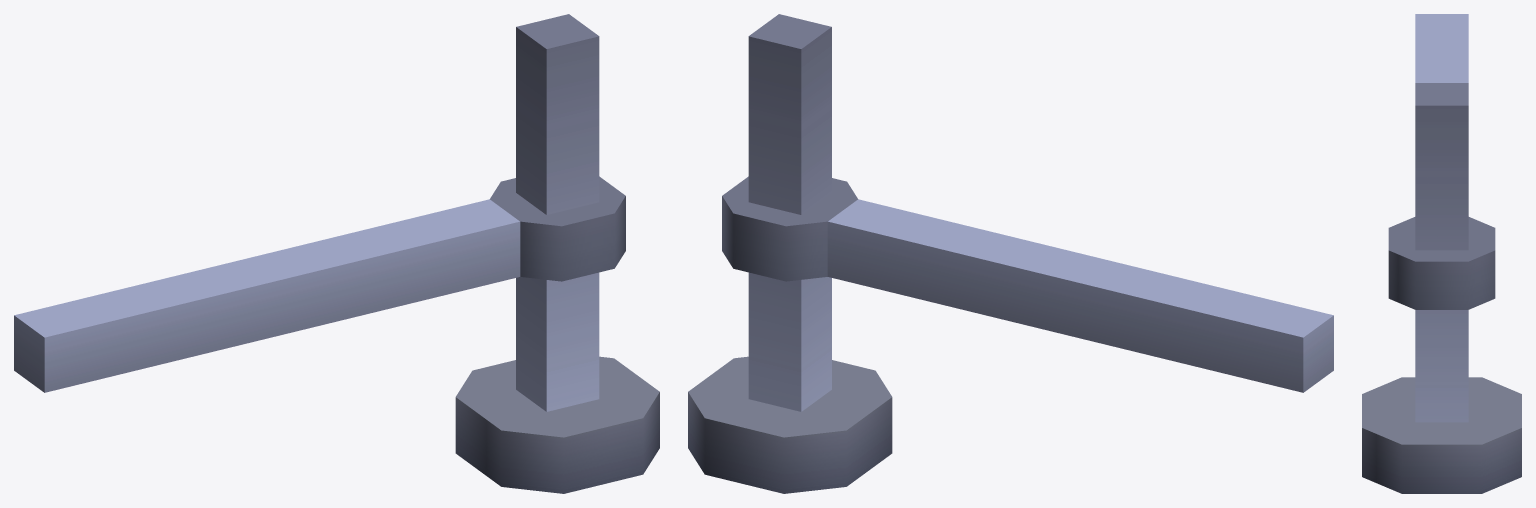
Rendered from fence.glb.
3 renders of one model, left to right at view 1: azimuth 30°, elevation 25°; view 2: azimuth 150°, elevation 25°; view 3: azimuth 270°, elevation 25°, orthographic. The views are drawn at different scales.
Parts seen in each view (by area): view 1: fence; view 2: fence; view 3: fence.
Boxes of the visible parts, x1,y1,x2,y2 form: fence: [14, 14, 659, 493]; fence: [688, 14, 1333, 493]; fence: [1362, 14, 1521, 493].
Size of the model in its own units: 0.575 by 0.379 by 0.15.
1 material, 1 textured.
